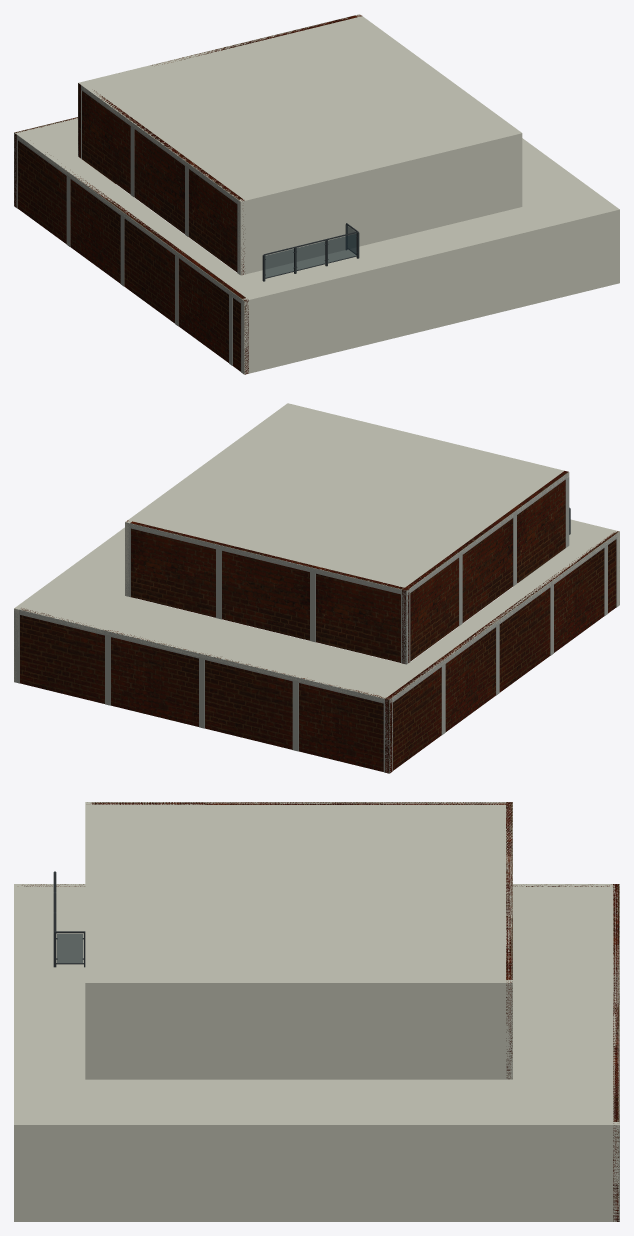
The model's file is building.glb.
3 renders of one model, top to bottom at view 1: azimuth 30°, elevation 25°; view 2: azimuth 150°, elevation 25°; view 3: azimuth 270°, elevation 25°, orthographic. The views are drawn at different scales.
Visible parts, largest first — view 1: roof/upper:0/roof_slab#0001, lower:0/edge0/z0/lower:0/edge0/z0/wall_0_0, upper:0/edge0/z3/upper:0/edge0/z3/wall_0_0, roof/lower:0/roof_slab#0001, lower:0/edge3/z0/lower:0/edge3/z0/wall_0_0, upper:0/edge3/z3/upper:0/edge3/z3/wall_0_0, lower:0/edge3/z0/lower:0/edge3/z0/beam_0_0, upper:0/edge1/z3/upper:0/edge1/z3/wall_0_0, upper:0/edge3/z3/upper:0/edge3/z3/beam_0_0, lower:0/edge1/z0/lower:0/edge1/z0/wall_0_0, upper:0/edge2/z3/upper:0/edge2/z3/wall_0_0, balcony/sample/balcony_glass#0001 (+2 smaller); view 2: roof/upper:0/roof_slab#0001, lower:0/edge2/z0/lower:0/edge2/z0/wall_0_0, roof/lower:0/roof_slab#0001, upper:0/edge2/z3/upper:0/edge2/z3/wall_0_0, lower:0/edge3/z0/lower:0/edge3/z0/wall_0_0, upper:0/edge3/z3/upper:0/edge3/z3/wall_0_0, lower:0/edge2/z0/lower:0/edge2/z0/beam_0_0, upper:0/edge2/z3/upper:0/edge2/z3/beam_0_0, lower:0/edge3/z0/lower:0/edge3/z0/beam_0_0, upper:0/edge1/z3/upper:0/edge1/z3/wall_0_0, upper:0/edge3/z3/upper:0/edge3/z3/beam_0_0, upper:0/edge0/z3/upper:0/edge0/z3/wall_0_0 (+1 smaller); view 3: roof/upper:0/roof_slab#0001, roof/lower:0/roof_slab#0001, lower:0/edge1/z0/lower:0/edge1/z0/wall_0_0, upper:0/edge1/z3/upper:0/edge1/z3/wall_0_0, lower:0/edge0/z0/lower:0/edge0/z0/wall_0_0, upper:0/edge0/z3/upper:0/edge0/z3/wall_0_0, lower:0/edge2/z0/lower:0/edge2/z0/wall_0_0, upper:0/edge2/z3/upper:0/edge2/z3/wall_0_0, upper:0/edge3/z3/upper:0/edge3/z3/wall_0_0, balcony/sample/balcony_glass#0004.
Boxes of the visible parts, left/top/right/bottom form: roof/upper:0/roof_slab#0001: left=78, top=14, right=520, bottom=204; lower:0/edge0/z0/lower:0/edge0/z0/wall_0_0: left=241, top=209, right=619, bottom=374; upper:0/edge0/z3/upper:0/edge0/z3/wall_0_0: left=238, top=132, right=522, bottom=275; roof/lower:0/roof_slab#0001: left=14, top=117, right=618, bottom=303; lower:0/edge3/z0/lower:0/edge3/z0/wall_0_0: left=17, top=140, right=248, bottom=374; upper:0/edge3/z3/upper:0/edge3/z3/wall_0_0: left=82, top=90, right=244, bottom=274; lower:0/edge3/z0/lower:0/edge3/z0/beam_0_0: left=14, top=133, right=243, bottom=303; upper:0/edge1/z3/upper:0/edge1/z3/wall_0_0: left=355, top=14, right=522, bottom=207; upper:0/edge3/z3/upper:0/edge3/z3/beam_0_0: left=81, top=85, right=240, bottom=205; lower:0/edge1/z0/lower:0/edge1/z0/wall_0_0: left=522, top=138, right=619, bottom=284; upper:0/edge2/z3/upper:0/edge2/z3/wall_0_0: left=78, top=15, right=361, bottom=158; balcony/sample/balcony_glass#0001: left=265, top=249, right=294, bottom=277; roof/upper:0/roof_slab#0001: left=127, top=404, right=568, bottom=592; lower:0/edge2/z0/lower:0/edge2/z0/wall_0_0: left=20, top=608, right=392, bottom=772; roof/lower:0/roof_slab#0001: left=14, top=520, right=619, bottom=703; upper:0/edge2/z3/upper:0/edge2/z3/wall_0_0: left=127, top=520, right=409, bottom=662; lower:0/edge3/z0/lower:0/edge3/z0/wall_0_0: left=385, top=531, right=619, bottom=773; upper:0/edge3/z3/upper:0/edge3/z3/wall_0_0: left=402, top=471, right=568, bottom=663; lower:0/edge2/z0/lower:0/edge2/z0/beam_0_0: left=14, top=609, right=389, bottom=703; upper:0/edge2/z3/upper:0/edge2/z3/beam_0_0: left=125, top=522, right=406, bottom=595; lower:0/edge3/z0/lower:0/edge3/z0/beam_0_0: left=389, top=533, right=619, bottom=704; upper:0/edge1/z3/upper:0/edge1/z3/wall_0_0: left=125, top=405, right=289, bottom=596; upper:0/edge3/z3/upper:0/edge3/z3/beam_0_0: left=406, top=472, right=568, bottom=595; upper:0/edge0/z3/upper:0/edge0/z3/wall_0_0: left=285, top=403, right=569, bottom=477; roof/upper:0/roof_slab#0001: left=85, top=802, right=512, bottom=987; roof/lower:0/roof_slab#0001: left=14, top=884, right=619, bottom=1129; lower:0/edge1/z0/lower:0/edge1/z0/wall_0_0: left=14, top=1122, right=619, bottom=1221; upper:0/edge1/z3/upper:0/edge1/z3/wall_0_0: left=85, top=980, right=512, bottom=1079; lower:0/edge0/z0/lower:0/edge0/z0/wall_0_0: left=14, top=884, right=20, bottom=1221; upper:0/edge0/z3/upper:0/edge0/z3/wall_0_0: left=85, top=802, right=92, bottom=1079; lower:0/edge2/z0/lower:0/edge2/z0/wall_0_0: left=613, top=884, right=619, bottom=1221; upper:0/edge2/z3/upper:0/edge2/z3/wall_0_0: left=506, top=802, right=512, bottom=1078; upper:0/edge3/z3/upper:0/edge3/z3/wall_0_0: left=91, top=802, right=510, bottom=804; balcony/sample/balcony_glass#0004: left=57, top=934, right=83, bottom=962.
Size of the model in its own units: 16 by 6 by 17.
5 materials, 1 textured.
